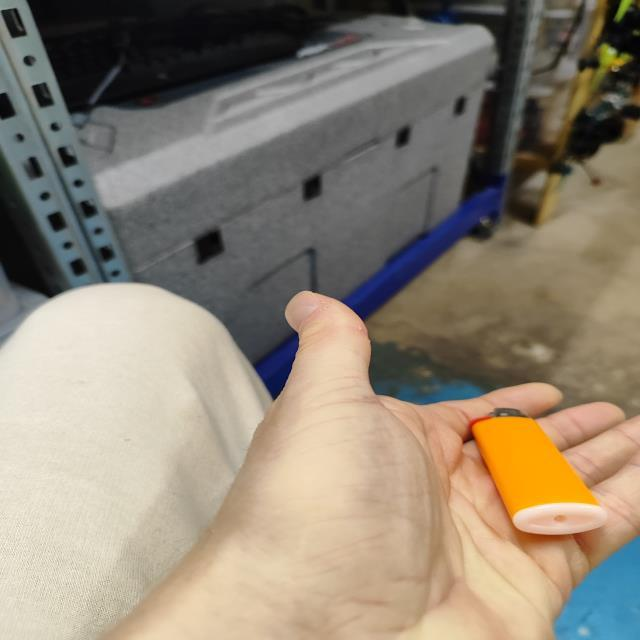lighter: (471, 409, 605, 535)
